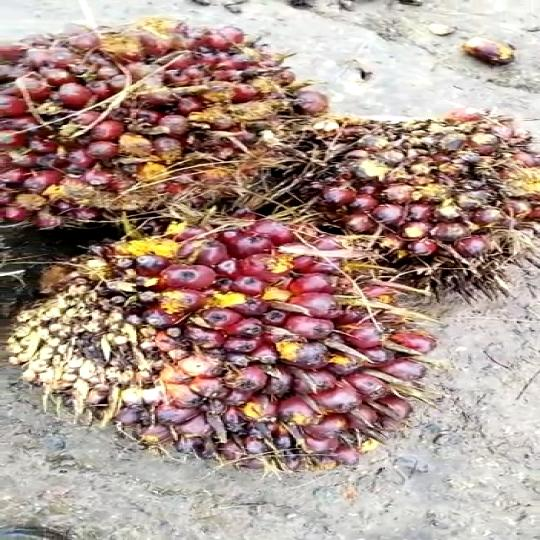masak: (19, 217, 464, 467), (0, 0, 341, 236), (254, 101, 540, 291)
